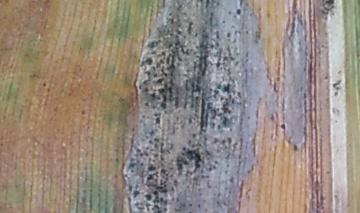tarspot: (186, 148, 202, 170), (221, 82, 232, 93), (235, 7, 243, 16), (279, 122, 287, 131), (292, 142, 299, 152), (323, 1, 335, 6), (40, 81, 48, 88), (79, 109, 86, 115)
